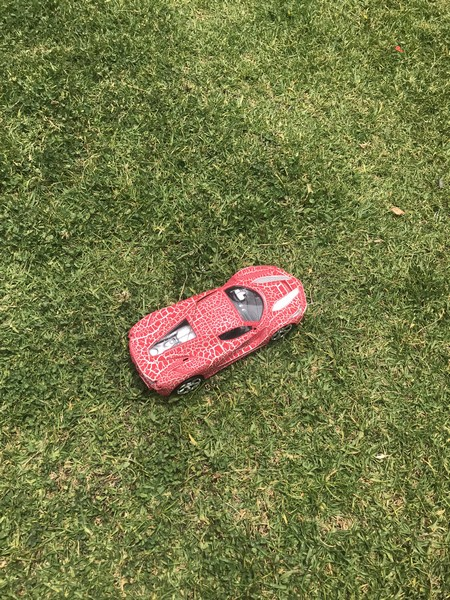RC: (122, 264, 310, 400)
